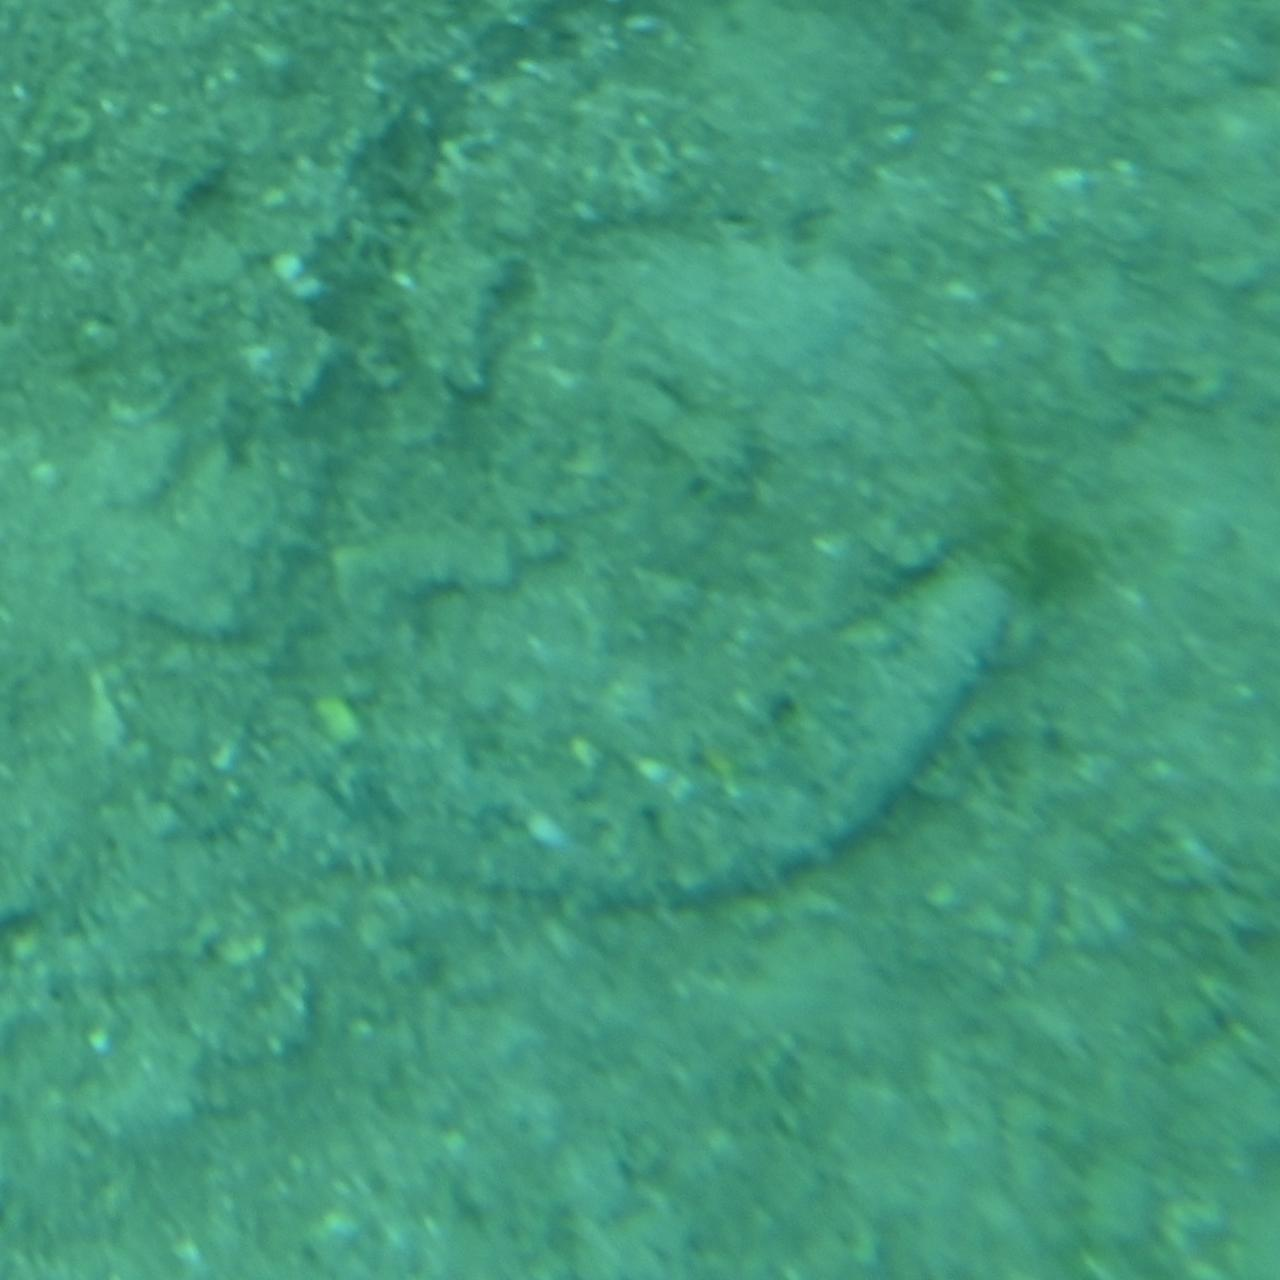Holothuria tubulosa: (232, 549, 1048, 929)
